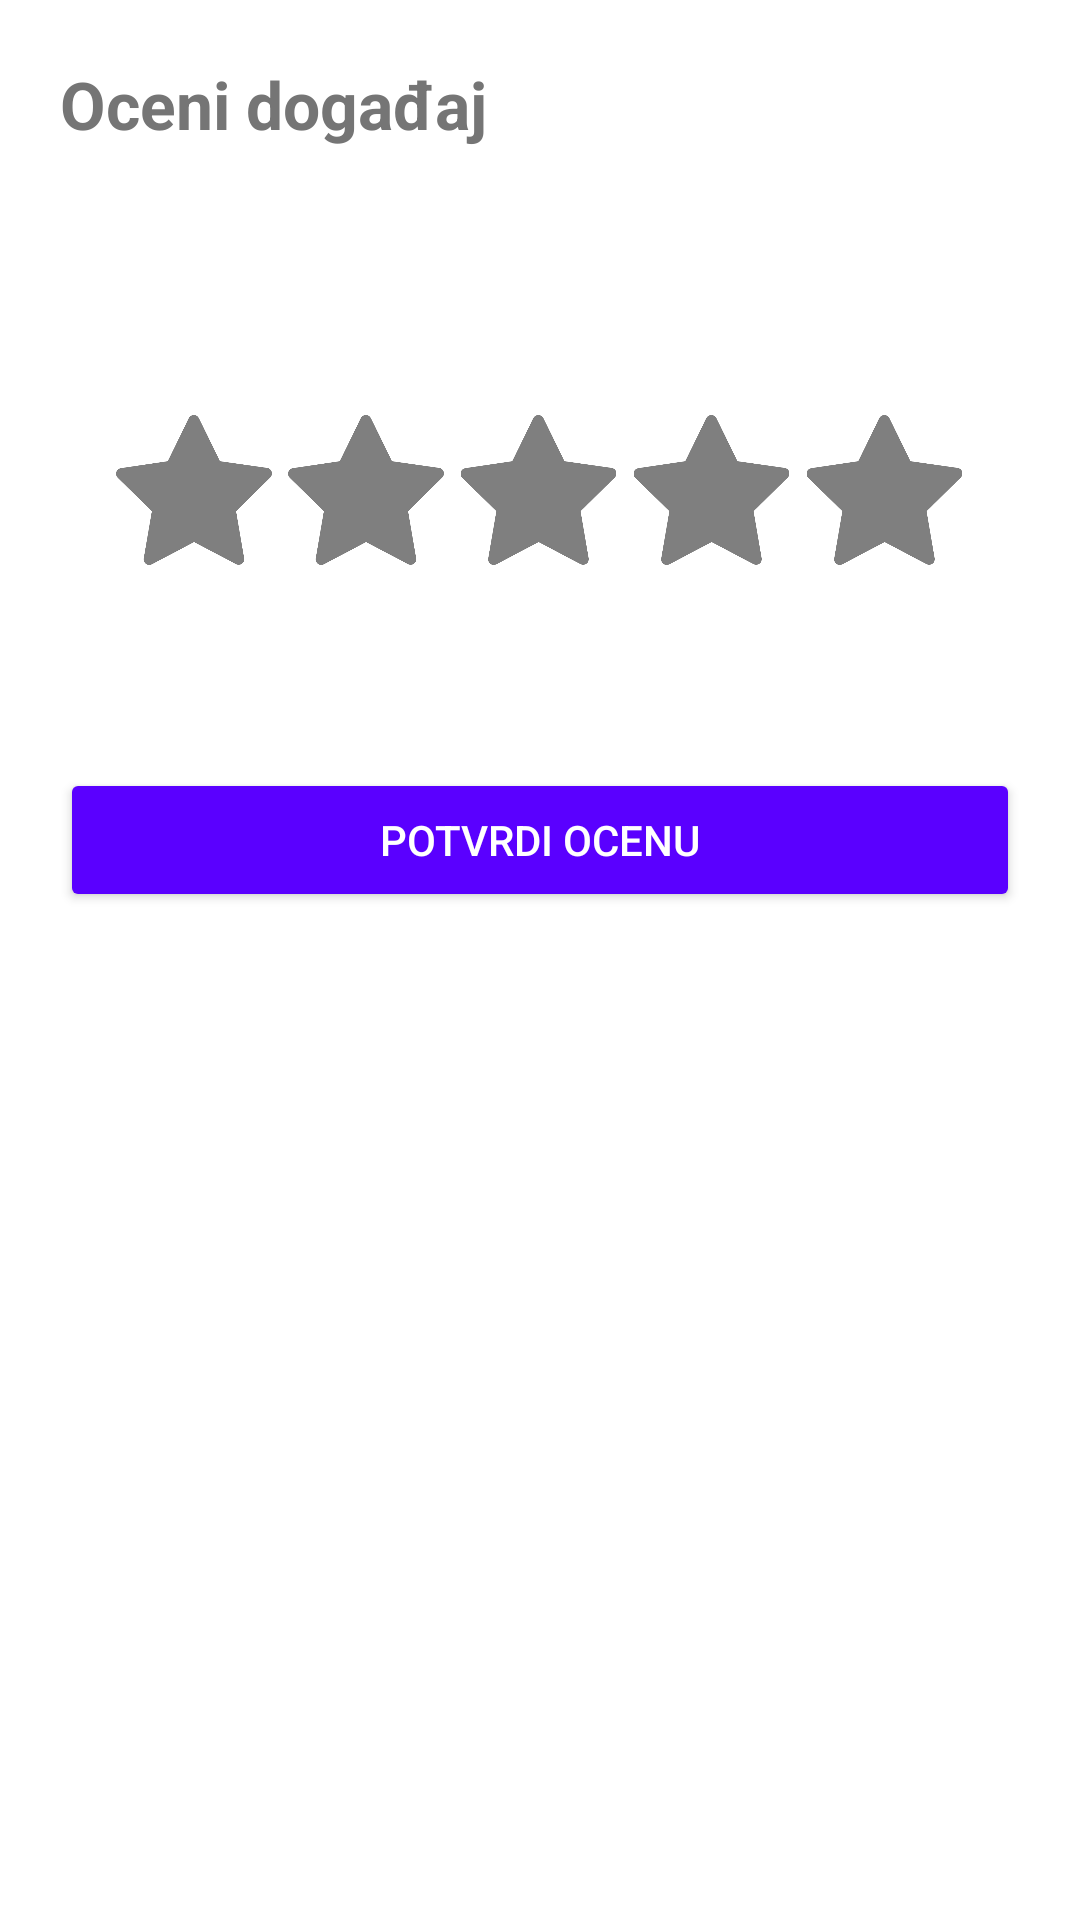

Named icons in this screenshot (1080w x 1920h) and their bounding boxes, BBox(x1, y1, x2, y2):
star empty: BBox(116, 415, 272, 565), BBox(288, 415, 444, 565), BBox(461, 415, 616, 565), BBox(634, 415, 789, 565), BBox(807, 415, 962, 565)
